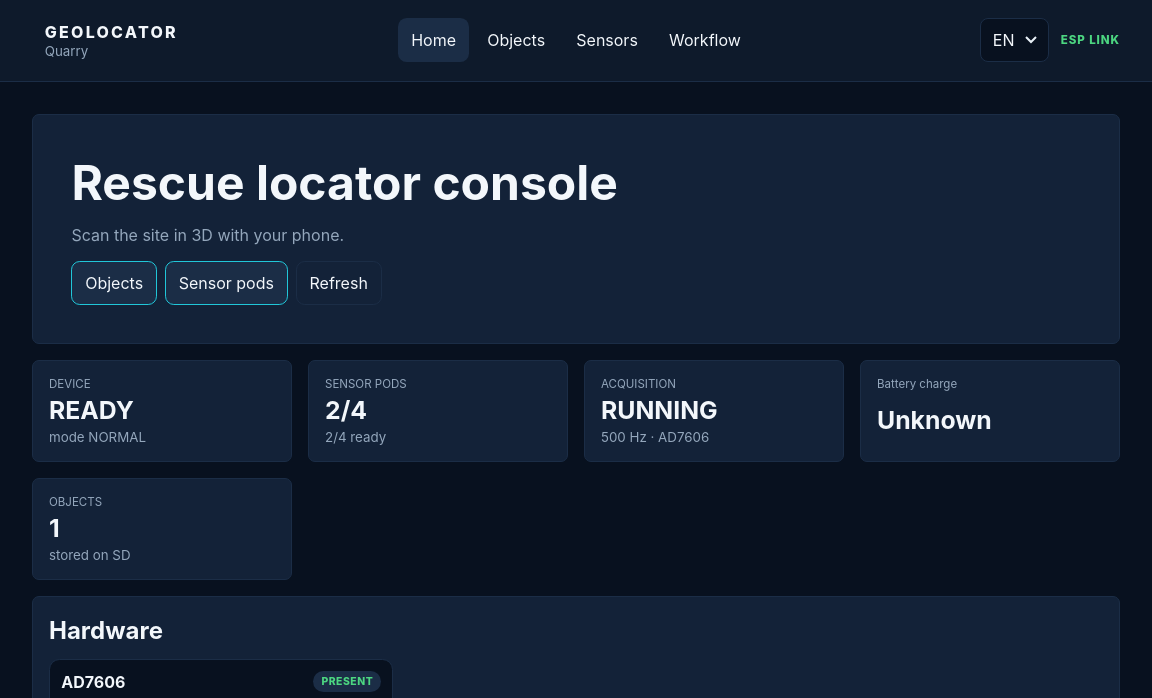
Test: production console admits only one create request while the response is pending
Expected: the heading "Rescue locator console" is shown, top-left (71, 153), bottom-right (618, 212)
Click the button "Objects" in the row of "ESP LINK" at (516, 40), box top-left (474, 18), bottom-right (558, 62)
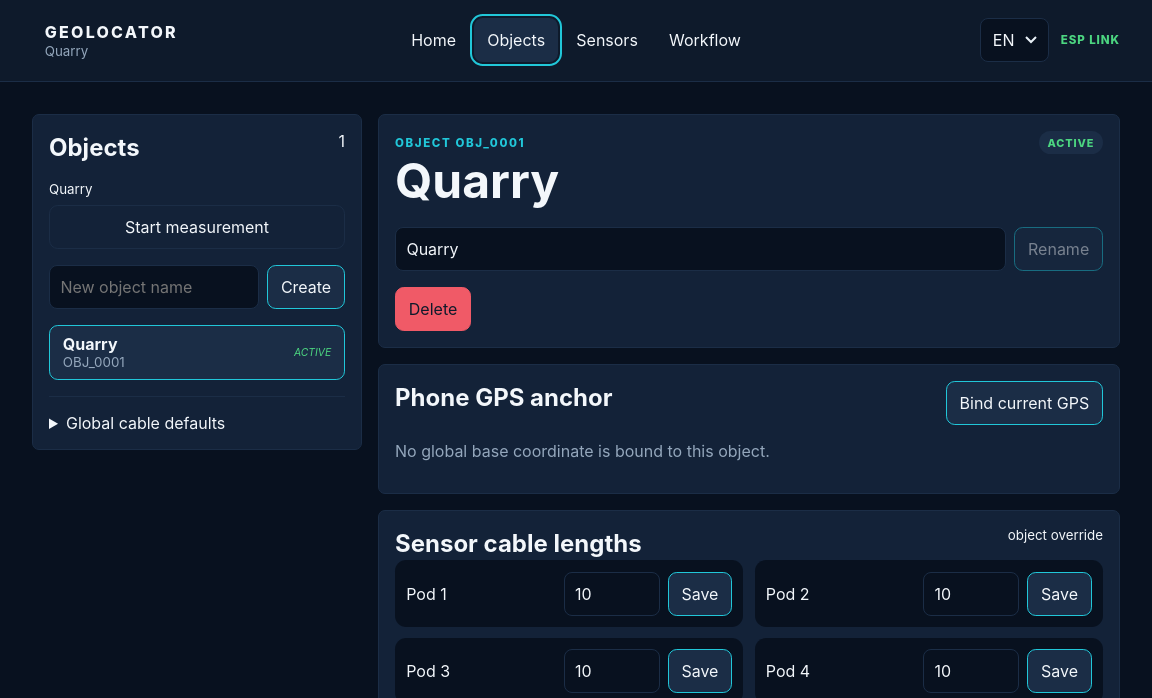
Now the heading "Quarry" is shown, box top-left (395, 155), bottom-right (559, 207)
Type "Survey" into the field with placeholder "New object name" at (154, 287), box top-left (49, 265), bottom-right (259, 309)
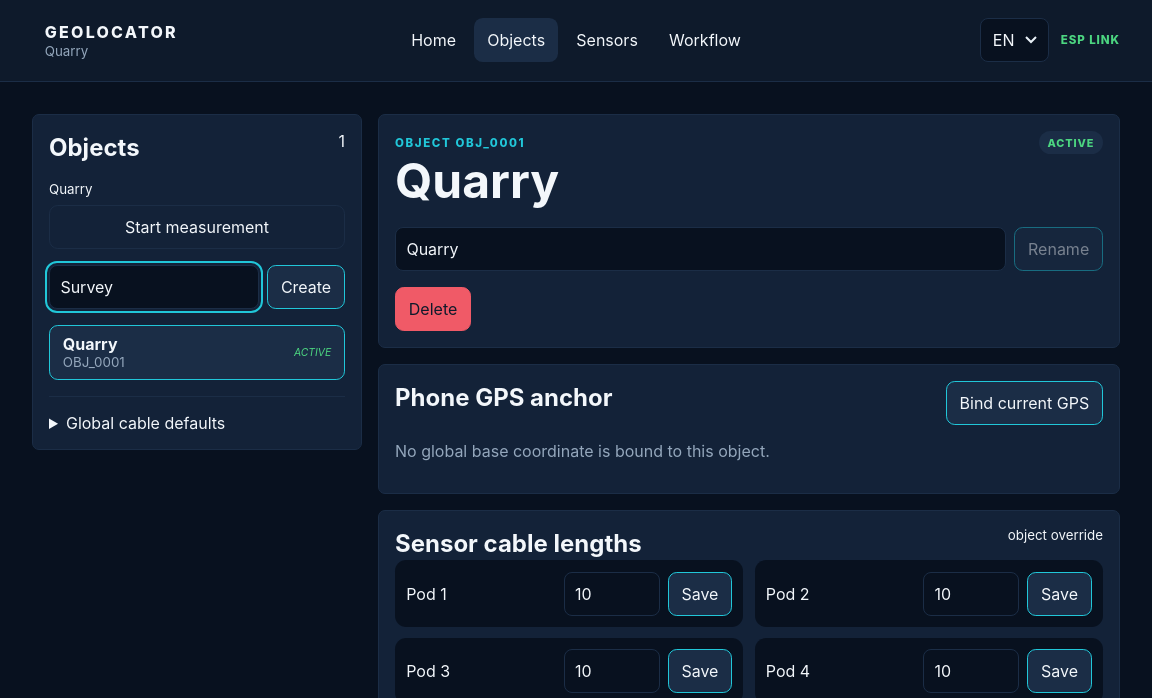
Double-click the button "Create" at (306, 287), box top-left (267, 265), bottom-right (345, 309)
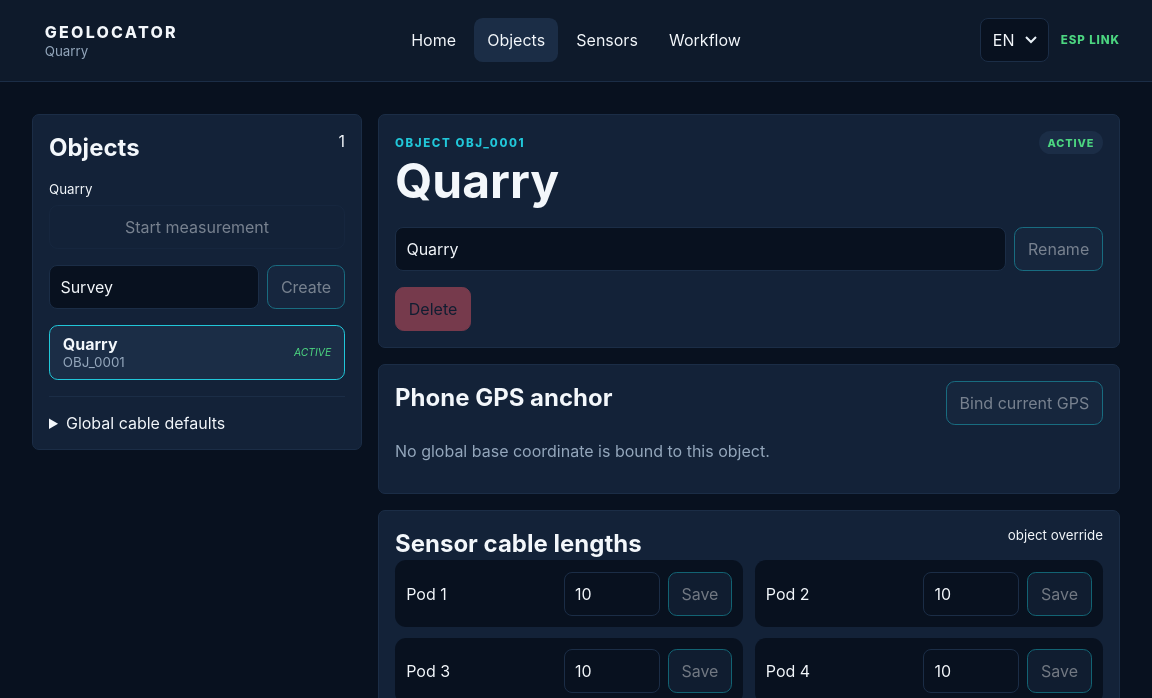
Now the button "Create" is disabled, box top-left (267, 265), bottom-right (345, 309)
Press Enter
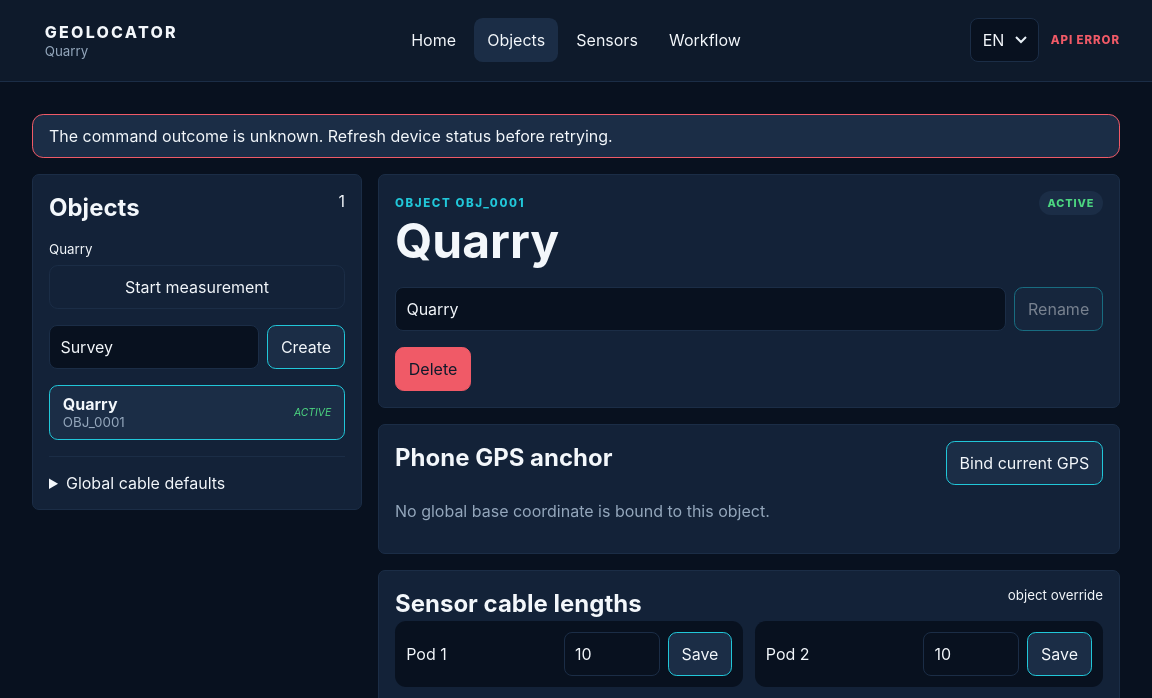
Now the button "Create" is enabled, box top-left (267, 325), bottom-right (345, 369)
